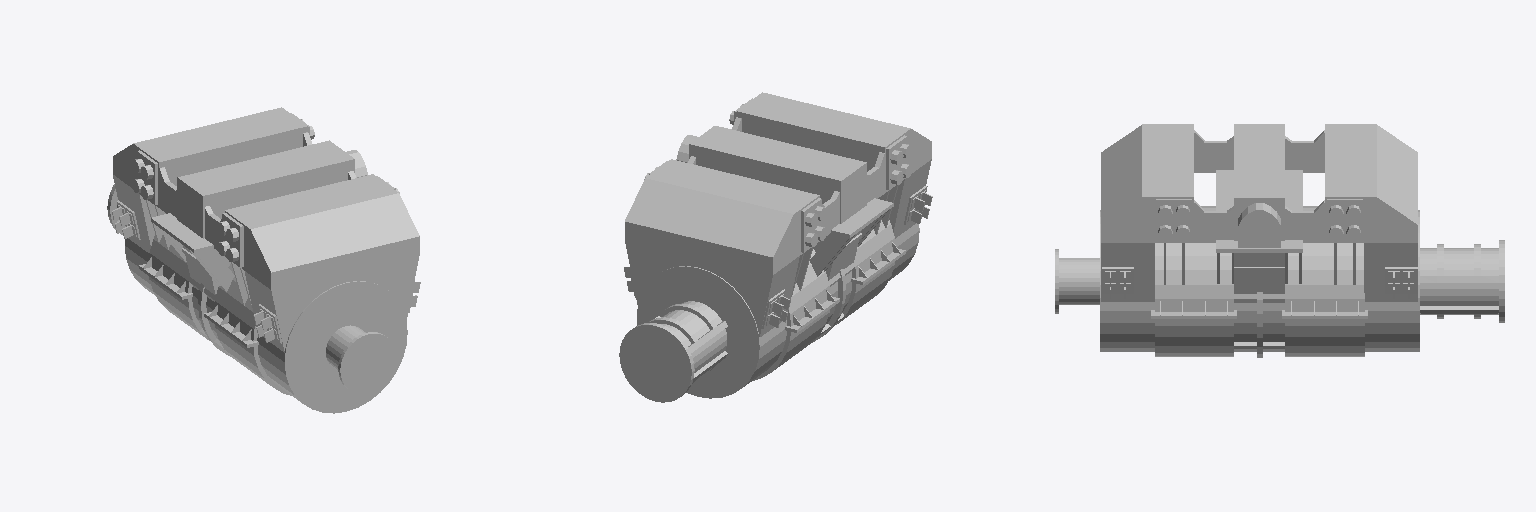
Rendered from Motor.obj.
3 views of the same model, side by side, from view 1: azimuth 30°, elevation 25°; view 2: azimuth 150°, elevation 25°; view 3: azimuth 270°, elevation 25° (orthographic).
Parts seen in each view (by area): view 1: 柱体; view 2: 柱体; view 3: 柱体.
Part boxes in pixels (left/top/right/bottom): 柱体: left=107, top=107, right=420, bottom=413; 柱体: left=619, top=92, right=932, bottom=402; 柱体: left=1055, top=124, right=1504, bottom=357.
Size of the model in its own units: 0.8688 by 0.843 by 1.8.